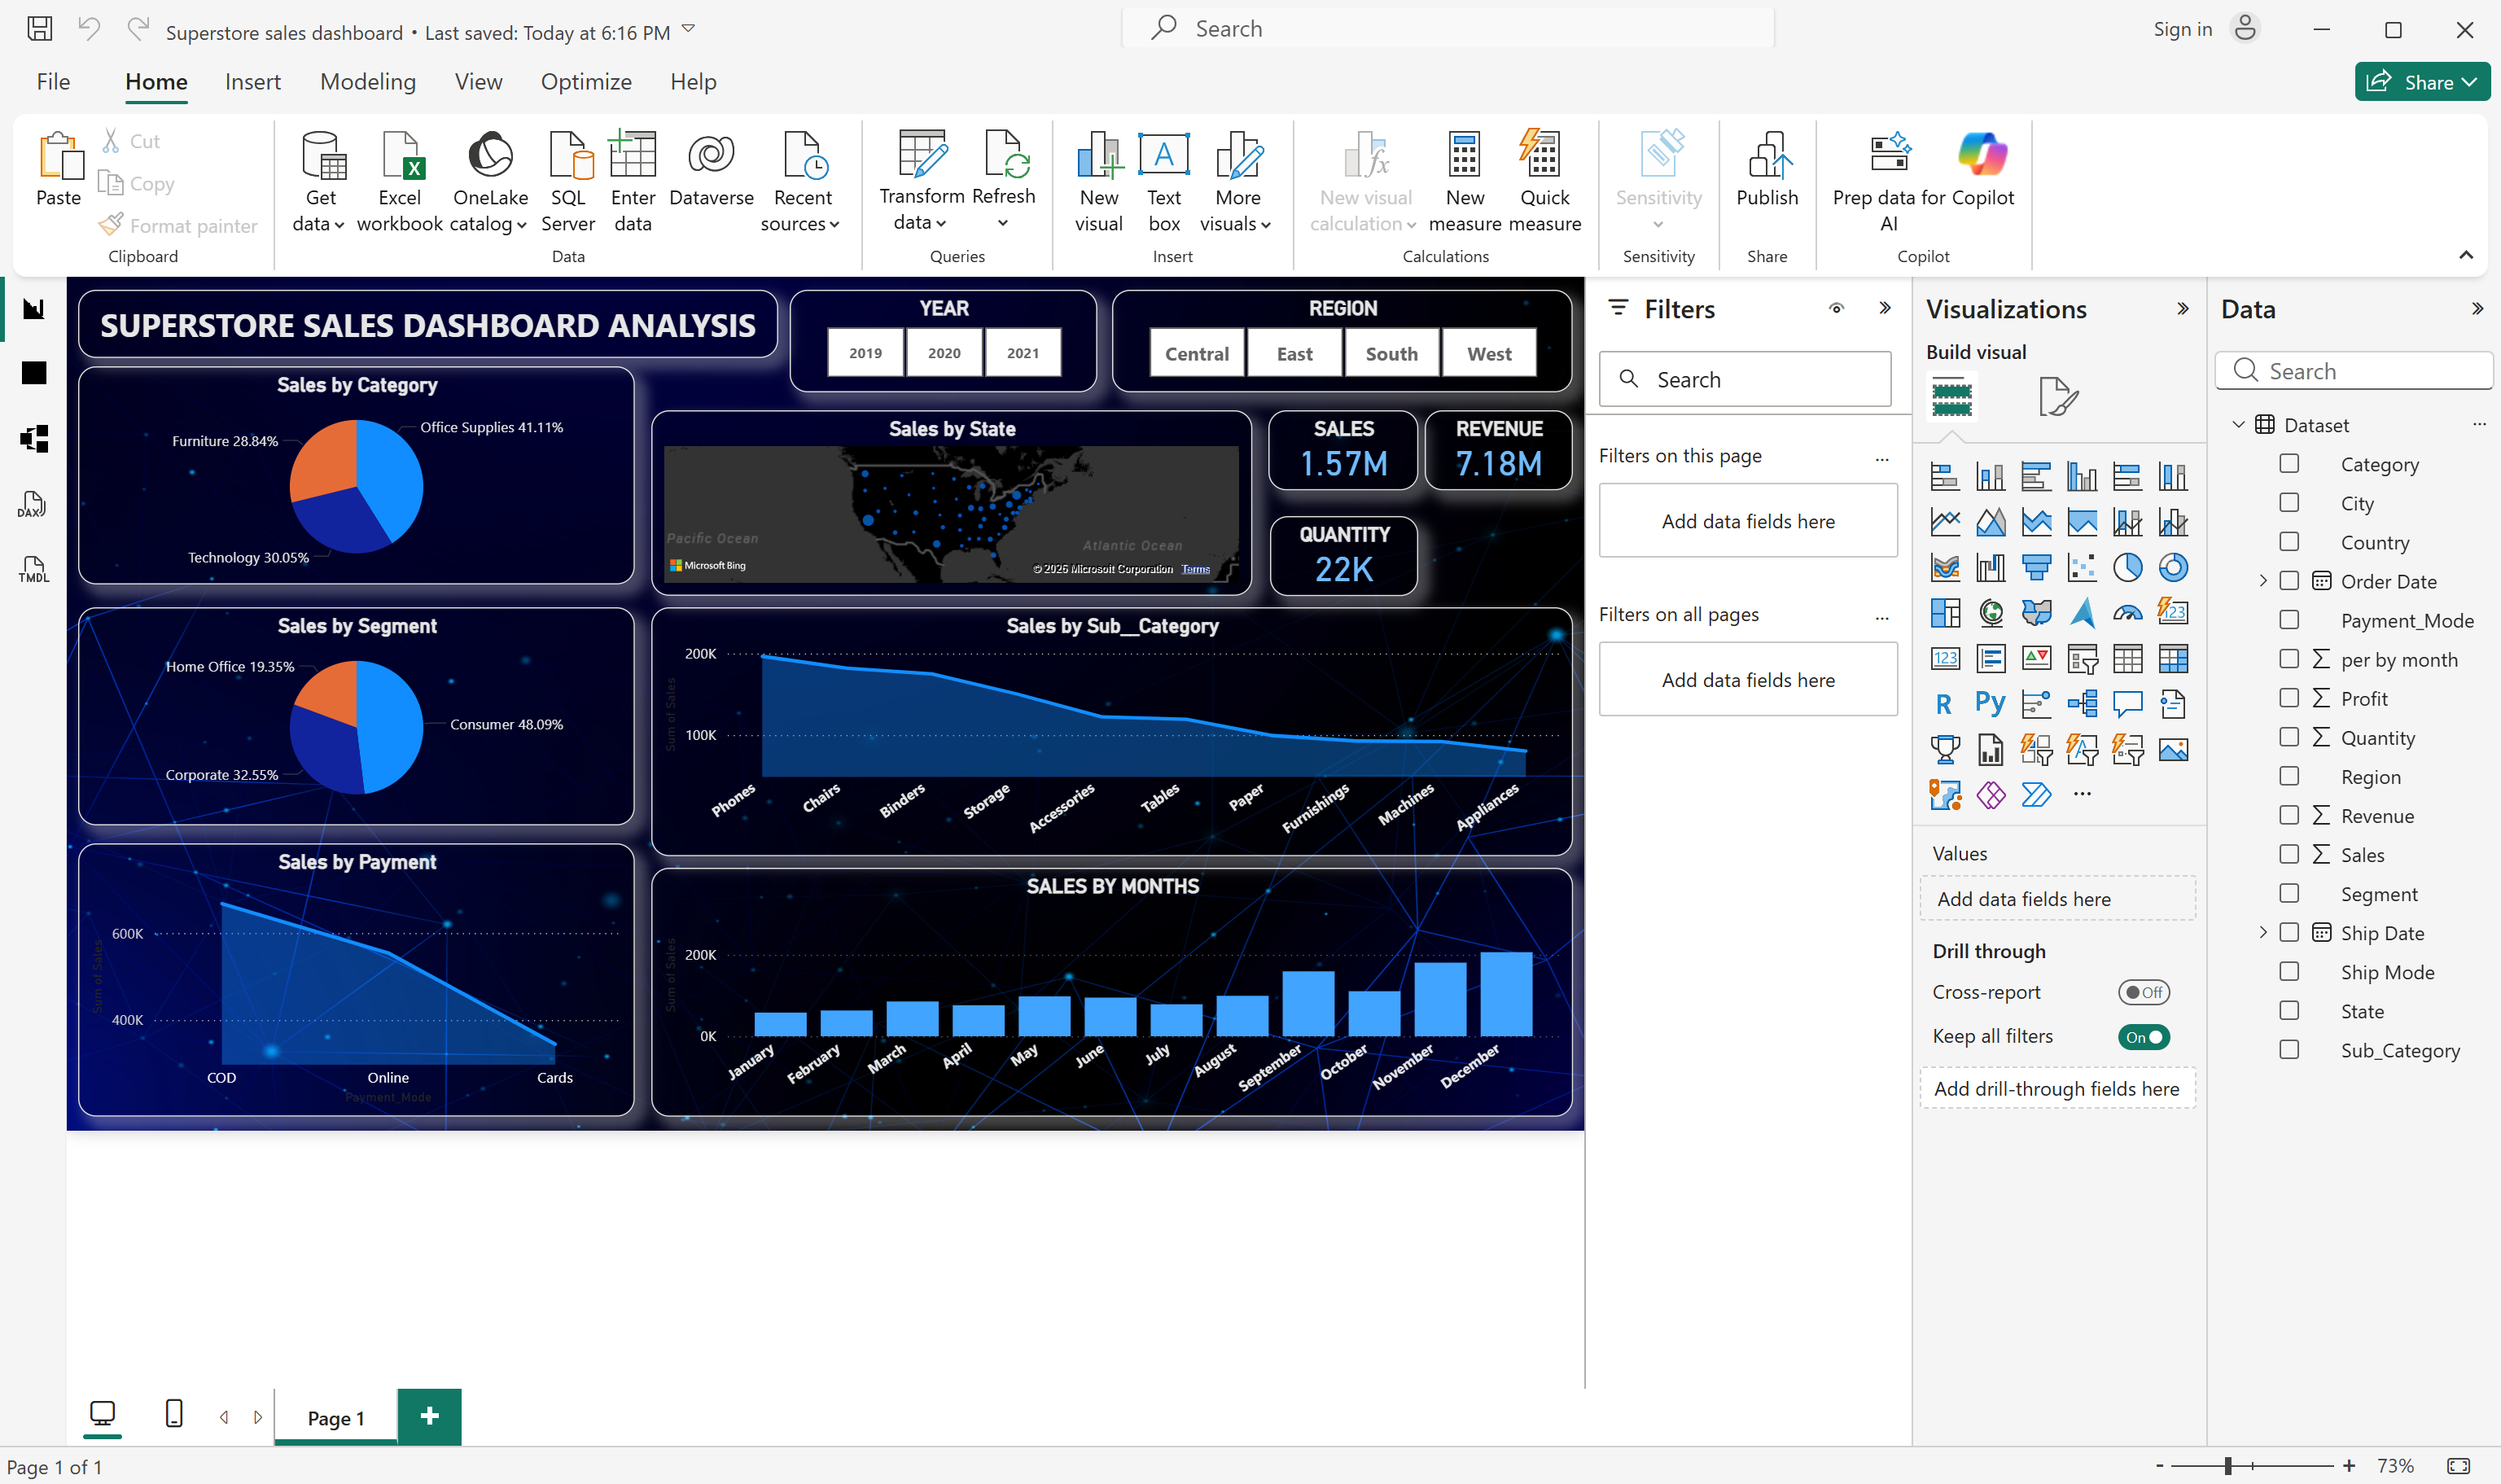

The dashboard page shown, as its layout file describes it:
{"tool":"powerbi","page":{"name":"Page 1","canvas":[1280,720],"ordinal":0},"visuals":[{"type":"textbox","box":[9.6,11,590.6,57.7],"z":0},{"type":"slicer","title":"REGION","fields":{"Values":["Dataset.Region"]},"box":[881.7,11,388.7,86.5],"z":1000},{"type":"card","title":"SALES","fields":{"Values":["Sum(Dataset.Sales)"]},"box":[1013.6,112.6,126.4,67.3],"z":2000},{"type":"card","title":"REVENUE","fields":{"Values":["Sum(Dataset.Revenue)"]},"box":[1145.4,112.6,125,67.3],"z":3000},{"type":"pieChart","title":" Sales by Category","fields":{"Y":["Sum(Dataset.Sales)"],"Category":["Dataset.Category"]},"box":[9.6,75.5,469.7,184],"z":4000},{"type":"pieChart","title":" Sales by Segment","fields":{"Y":["Sum(Dataset.Sales)"],"Category":["Dataset.Segment"]},"box":[9.6,278.8,469.7,184],"z":5000},{"type":"areaChart","title":" Sales by Sub__Category","fields":{"Y":["Sum(Dataset.Sales)"],"Category":["Dataset.Sub_Category"]},"box":[493,278.8,777.3,210.1],"z":6000},{"type":"stackedAreaChart","title":" Sales by Payment","fields":{"Category":["Dataset.Payment_Mode"],"Y":["Sum(Dataset.Sales)"]},"box":[9.6,477.9,469.7,230.7],"z":7000},{"type":"card","title":"QUANTITY","fields":{"Values":["Sum(Dataset.Quantity)"]},"box":[1014.9,201.9,125,67.3],"z":8000},{"type":"slicer","title":"YEAR","fields":{"Values":["Dataset.Order Date.Variation.Date Hierarchy.Year"]},"box":[609.8,11,259.6,86.5],"z":9000},{"type":"columnChart","title":"SALES BY MONTHS","fields":{"Category":["Dataset.Order Date.Variation.Date Hierarchy.Month","Dataset.Order Date.Variation.Date Hierarchy.Day"],"Y":["Sum(Dataset.Sales)"]},"box":[493,498.5,777.3,210.1],"z":10000},{"type":"map","title":"Sales by State","fields":{"Category":["Dataset.State"],"Size":["Sum(Dataset.Sales)"]},"box":[493,112.6,506.8,156.6],"z":11001}]}

Visuals, with their boxes on the page's 1280x720 design canvas (x1, y1, x2, y2). These are canvas units, not pixel positions in the 2501x1484 screenshot, which may show the page scaled, cropped or inside an application window:
textbox: [left=10, top=11, right=600, bottom=69]
"REGION" slicer: [left=882, top=11, right=1270, bottom=98]
"SALES" card: [left=1014, top=113, right=1140, bottom=180]
"REVENUE" card: [left=1145, top=113, right=1270, bottom=180]
" Sales by Category" pieChart: [left=10, top=76, right=479, bottom=260]
" Sales by Segment" pieChart: [left=10, top=279, right=479, bottom=463]
" Sales by Sub__Category" areaChart: [left=493, top=279, right=1270, bottom=489]
" Sales by Payment" stackedAreaChart: [left=10, top=478, right=479, bottom=709]
"QUANTITY" card: [left=1015, top=202, right=1140, bottom=269]
"YEAR" slicer: [left=610, top=11, right=869, bottom=98]
"SALES BY MONTHS" columnChart: [left=493, top=498, right=1270, bottom=709]
"Sales by State" map: [left=493, top=113, right=1000, bottom=269]
